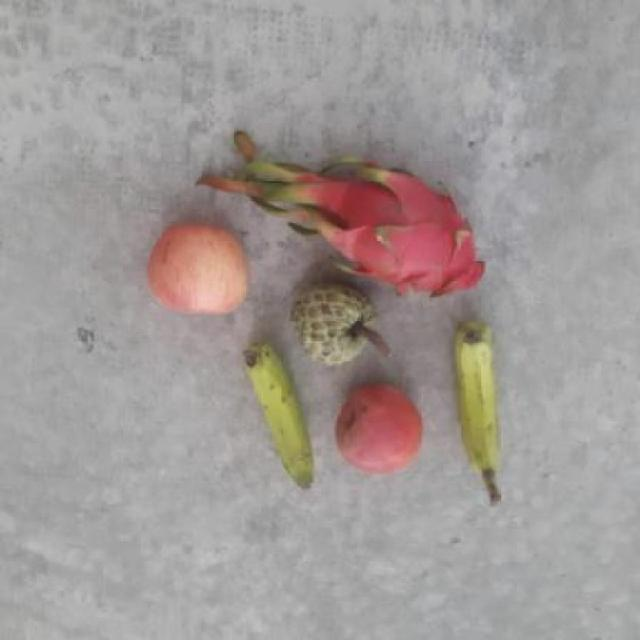apple: (147, 216, 251, 322), (332, 380, 428, 475)
banana: (240, 339, 322, 493), (444, 320, 516, 474)
dragon fruit: (317, 162, 486, 296)
sugar apple: (288, 279, 384, 370)
